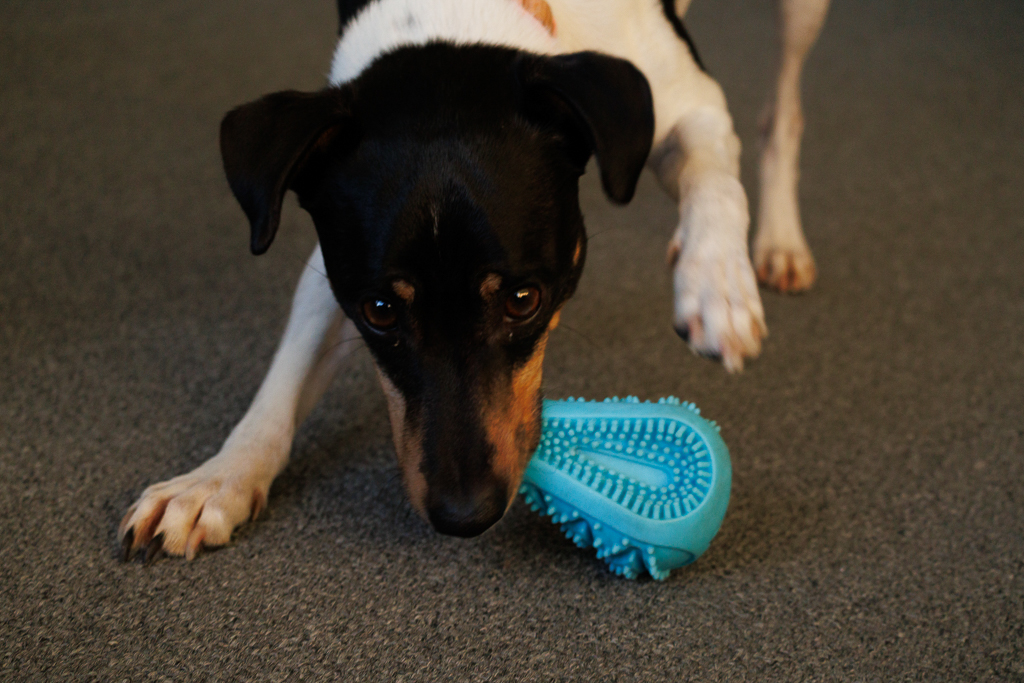Dog: (100, 0, 845, 573)
